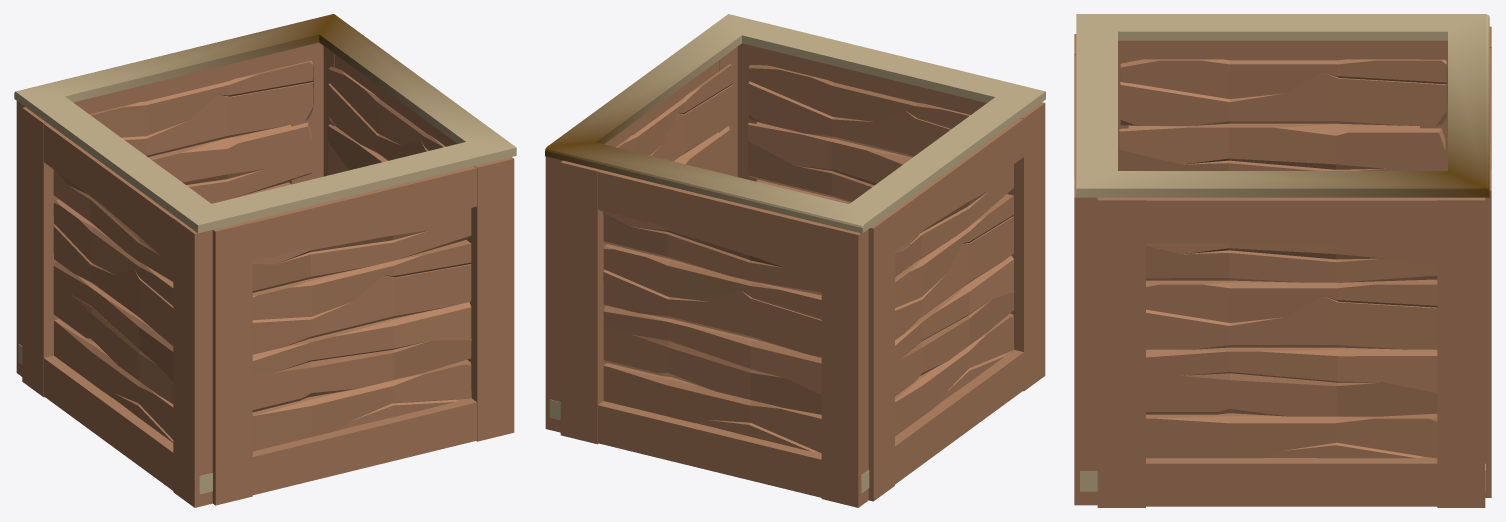
3 renders of one model, left to right at view 1: azimuth 30°, elevation 25°; view 2: azimuth 150°, elevation 25°; view 3: azimuth 270°, elevation 25°, orthographic. The views are drawn at different scales.
Parts seen in each view (by area): view 1: Cube; view 2: Cube; view 3: Cube.
Part boxes in pixels (left/top/right/bottom): Cube: left=14, top=14, right=516, bottom=507; Cube: left=545, top=14, right=1045, bottom=507; Cube: left=1074, top=14, right=1491, bottom=507.
Size of the model in its own units: 225 by 189 by 225.
